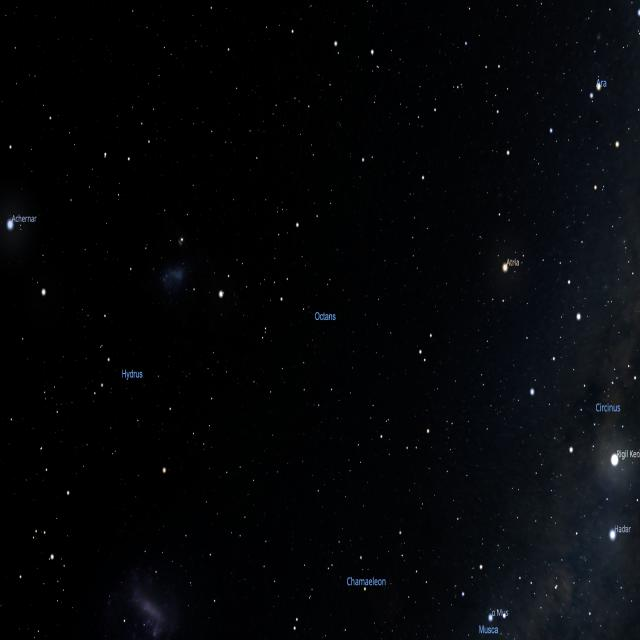Octans: (279, 219, 387, 441)
